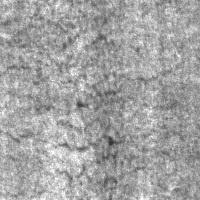crazing: (7, 12, 115, 70), (58, 134, 138, 184), (88, 68, 180, 111)
